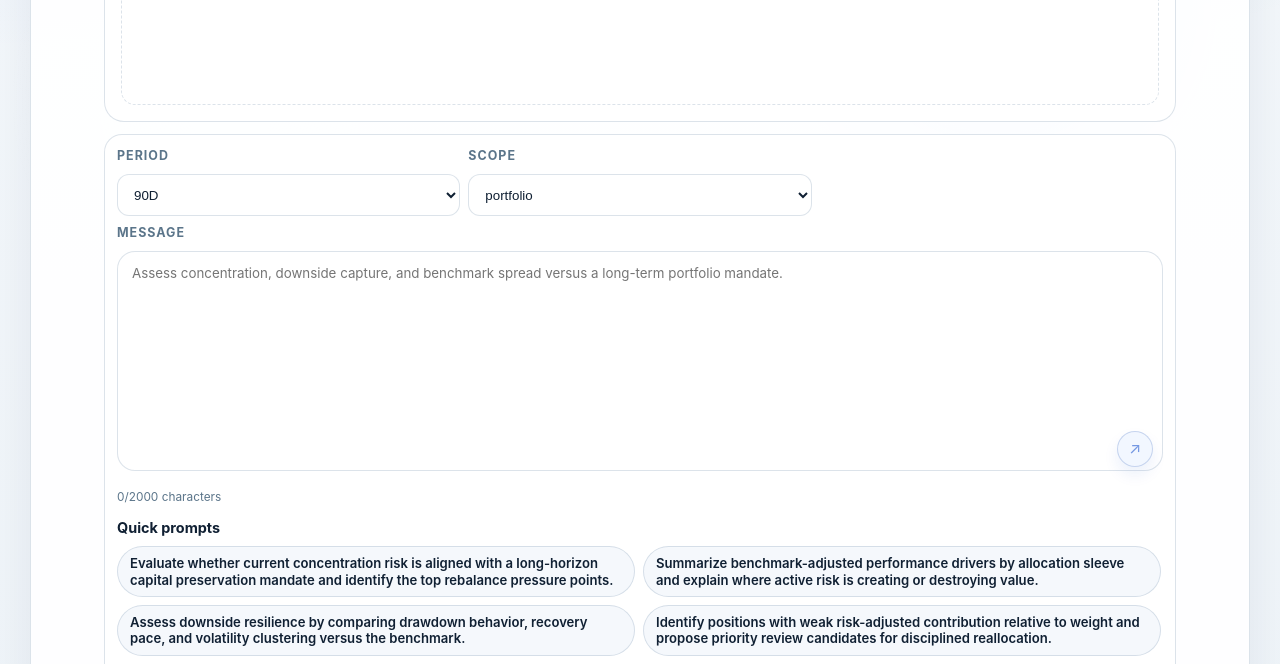
Test case: PortfolioCopilotPage › renders ready state with evidence and limitations after successful chat response
(page scrolled)
Type "Explain my latest risk posture changes." into the text box named "Copilot user message".
click(640, 361); type("Explain my latest risk posture changes.")  # box 117,251 -> 1163,471
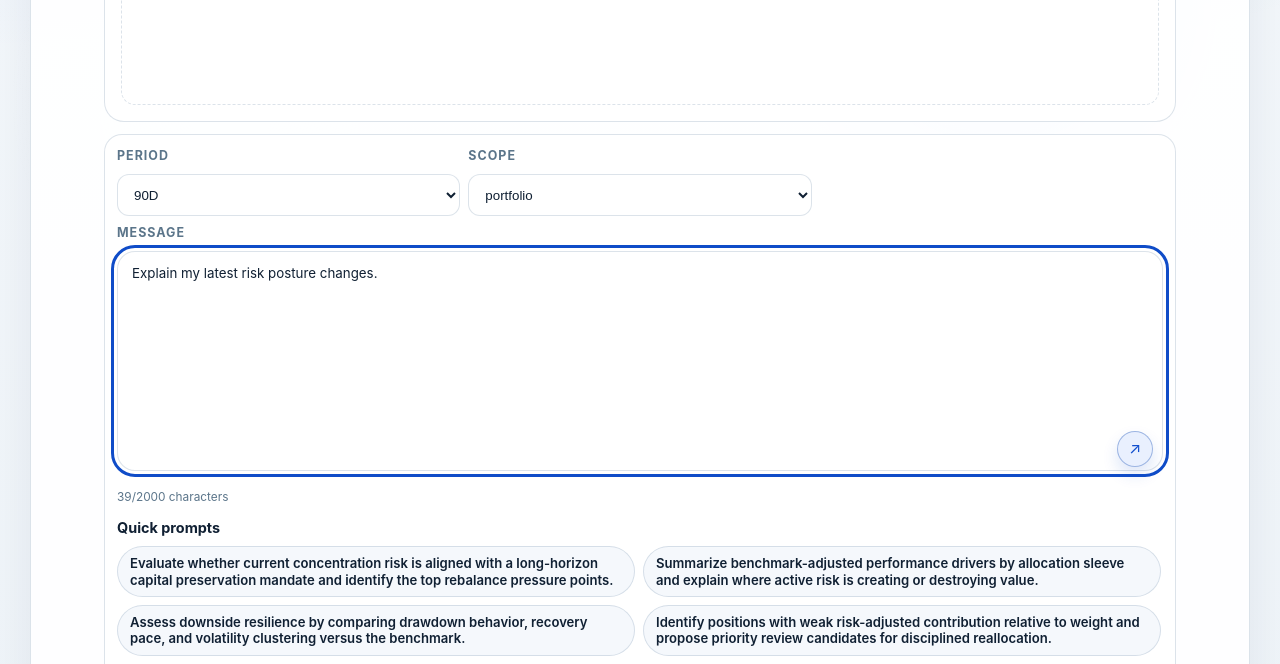
Click the button named "Submit request".
click(1135, 449)  # box 1117,431 -> 1153,467
(page scrolled)
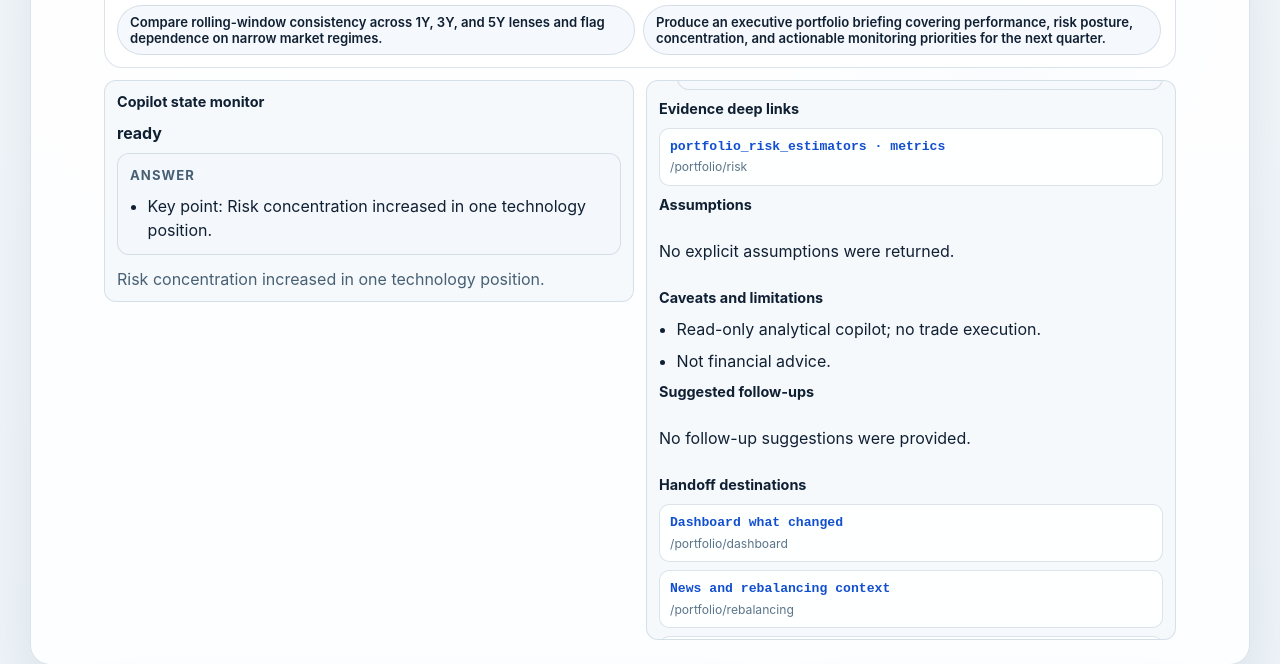
Expected: the heading "ready" is shown, 117,123 -> 162,143
Expected: the list item "Not financial advice." is shown, 677,351 -> 831,371
